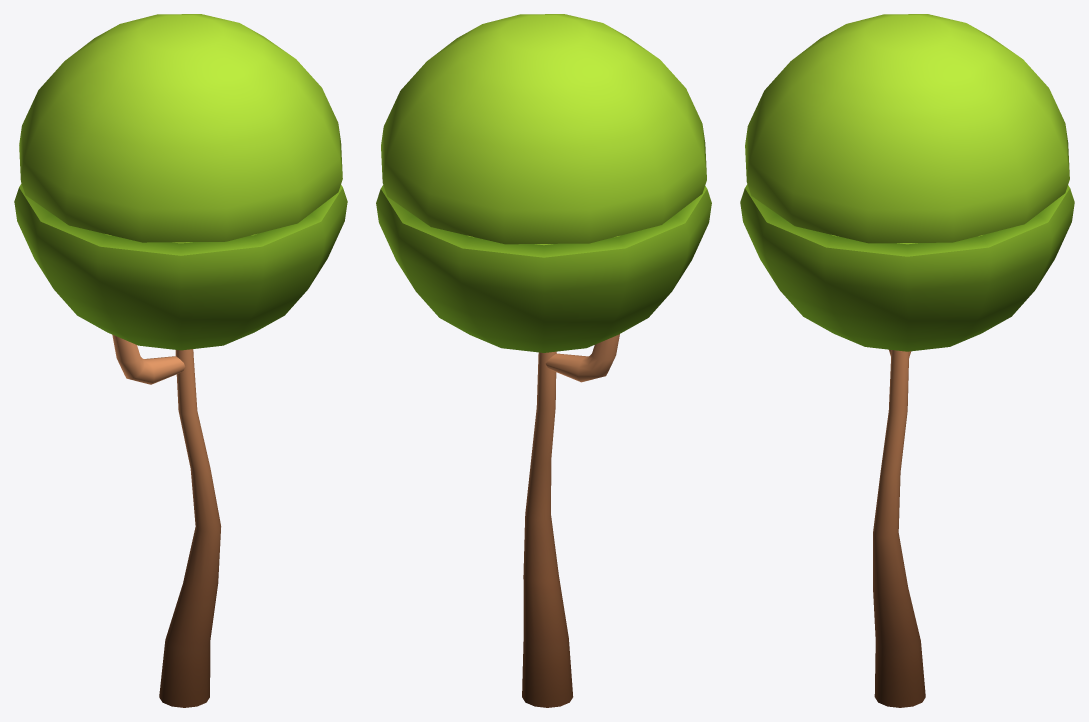
The model's file is lpb_tree_4_a.fbx.
The picture shows the model from 3 angles, left to right: view 1: azimuth 30°, elevation 25°; view 2: azimuth 150°, elevation 25°; view 3: azimuth 270°, elevation 25°; orthographic projection.
Parts seen in each view (by area): view 1: ap_tree_4; view 2: ap_tree_4; view 3: ap_tree_4.
Boxes of the visible parts, bbox=[...] form: ap_tree_4: bbox=[14, 14, 347, 707]; ap_tree_4: bbox=[376, 14, 711, 707]; ap_tree_4: bbox=[740, 14, 1074, 707].
Bounding box in the file's own units: 243 × 531 × 243.
